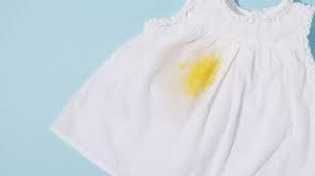mustard: (185, 50, 223, 100)
